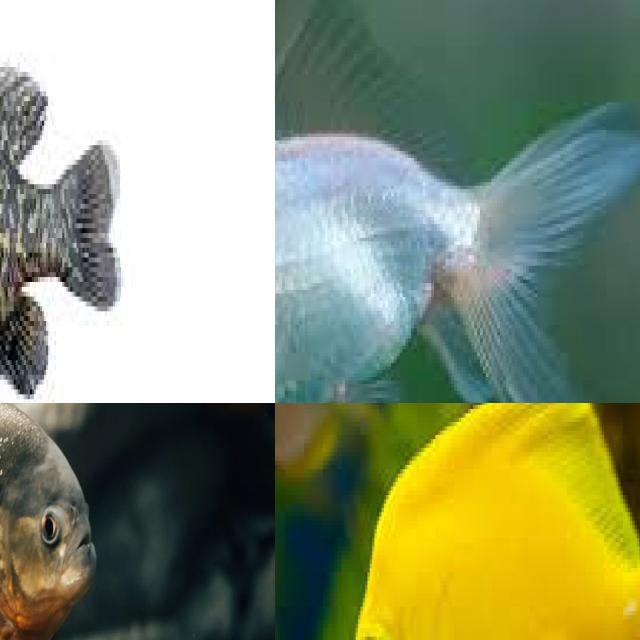fish: (275, 0, 640, 403), (0, 0, 275, 403), (275, 403, 640, 640), (0, 403, 135, 640)
